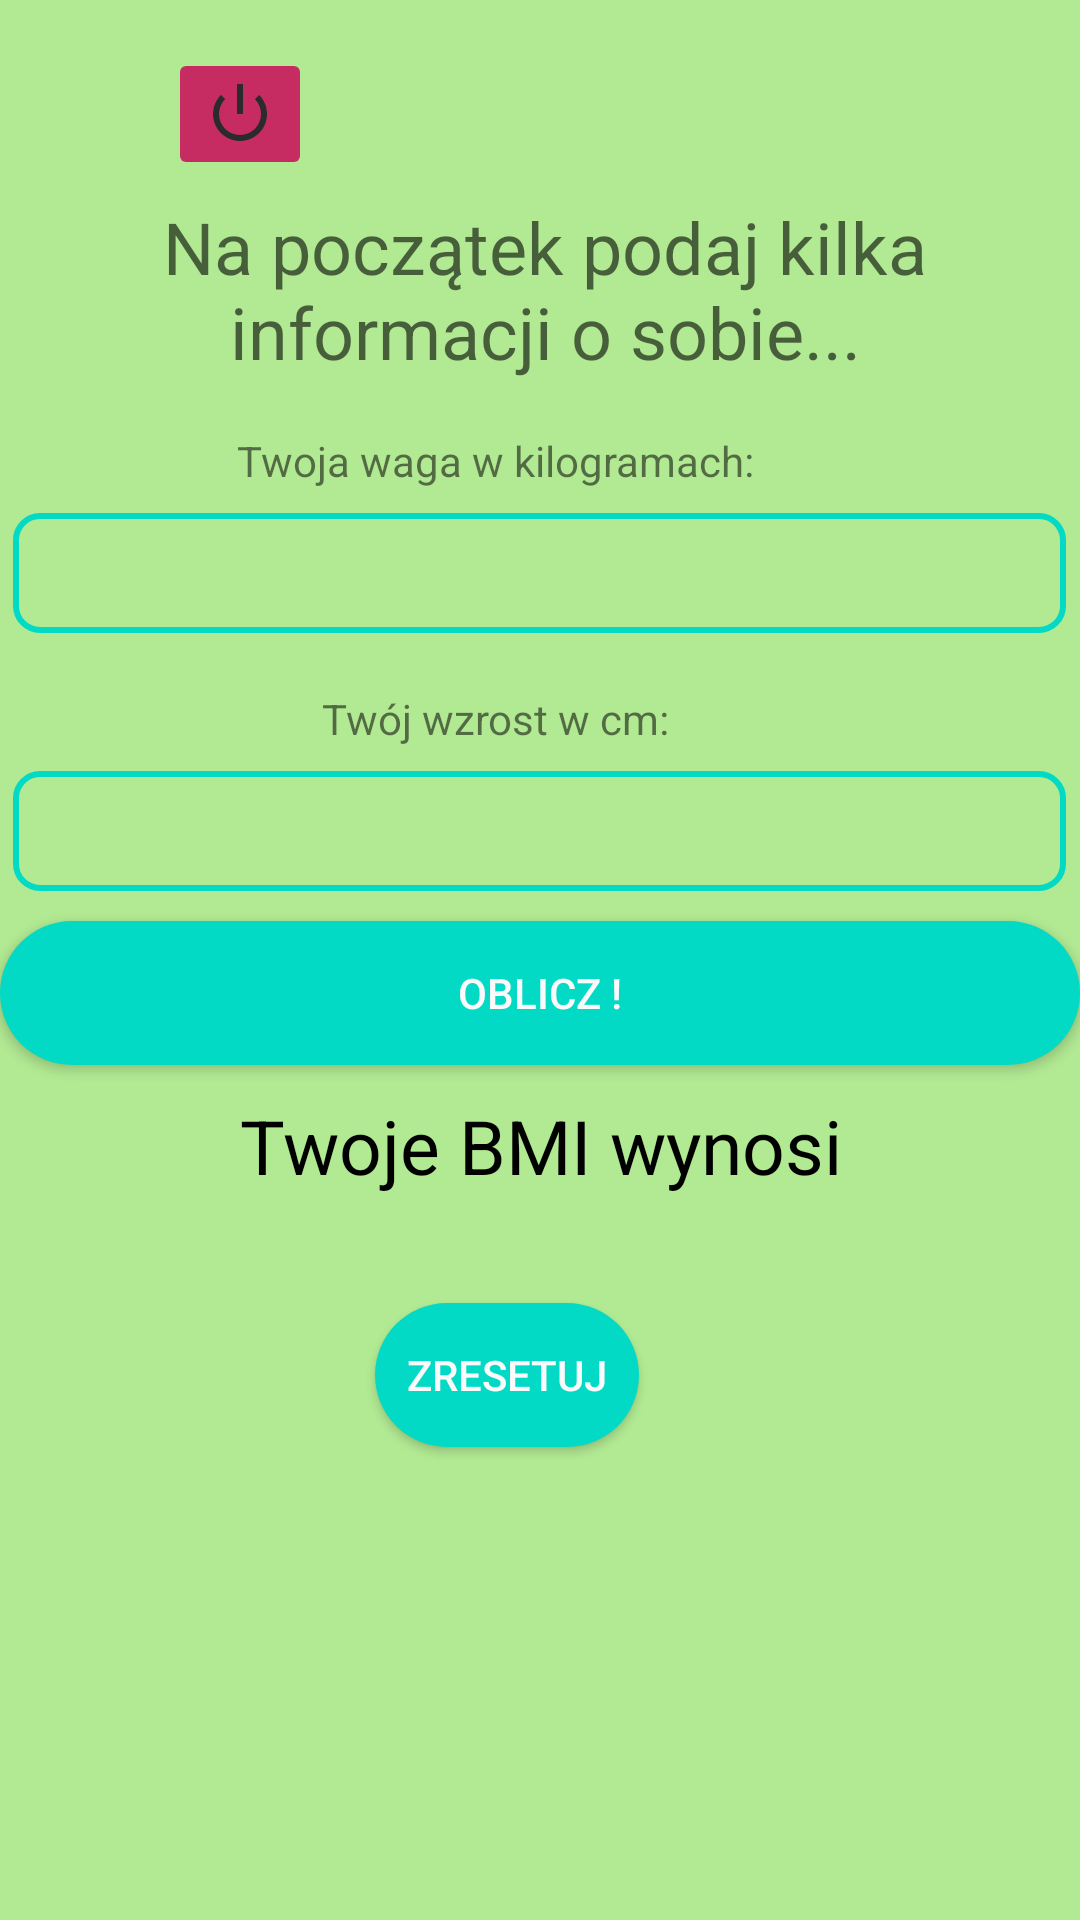

Locate icon controls on the screen. Image size 1080 x 1920, boxes as (x1, y1, x2, y2).
Zamknij App: (180, 66, 300, 162)
